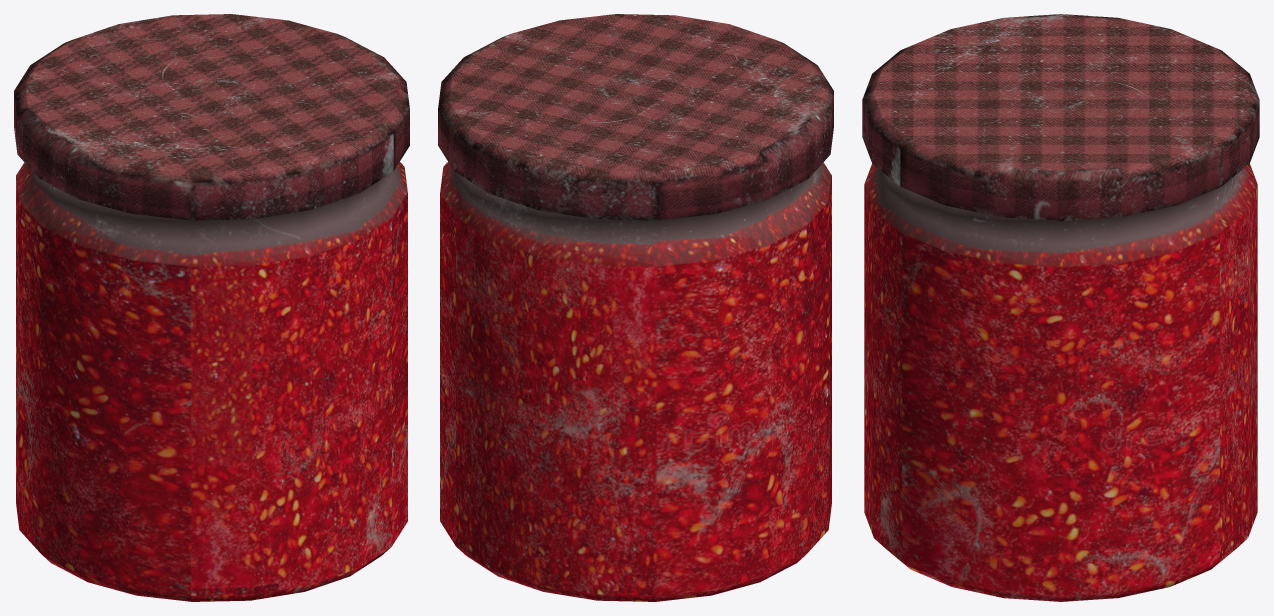
File: preservatives_jam_jar.glb
3 views of the same model, side by side, from view 1: azimuth 30°, elevation 25°; view 2: azimuth 150°, elevation 25°; view 3: azimuth 270°, elevation 25° (orthographic).
Visible parts, largest first — view 1: pCylinder1; view 2: pCylinder1; view 3: pCylinder1.
Part boxes in pixels (x1=…): pCylinder1: x1=14, y1=14, x2=409, y2=601; pCylinder1: x1=438, y1=14, x2=833, y2=601; pCylinder1: x1=862, y1=14, x2=1259, y2=601.
Bounding box in the file's own units: 1.26 × 1.51 × 1.26.
1 material, 1 textured.
